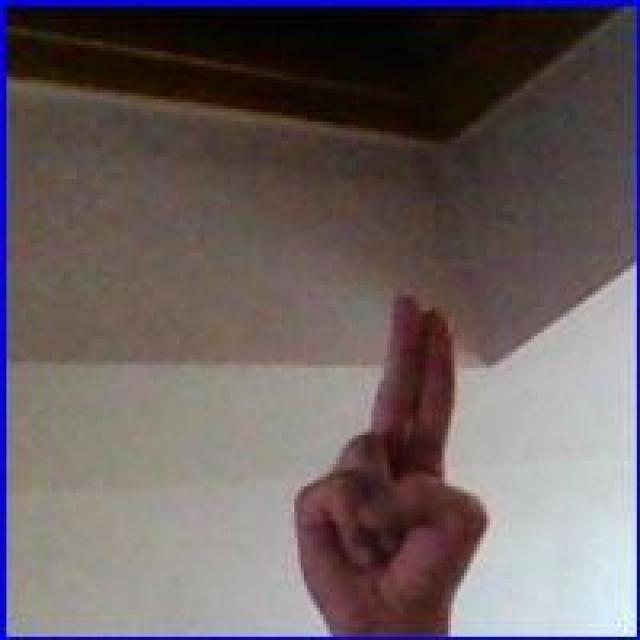U: (290, 293, 494, 629)
